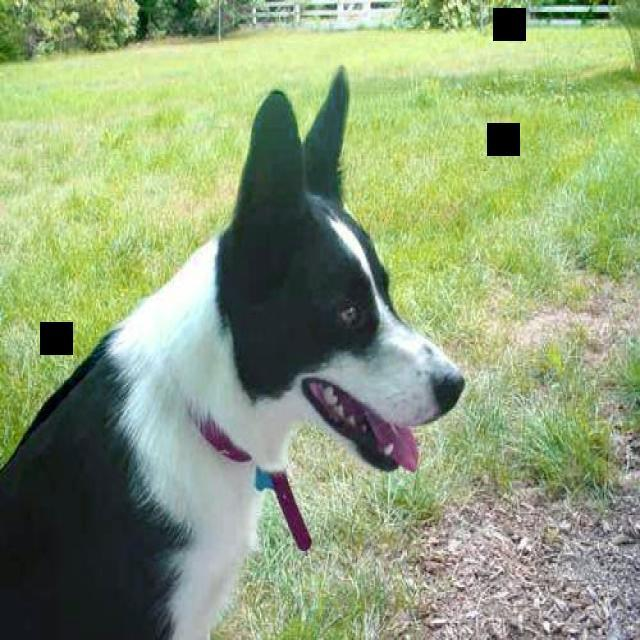adult_dog: (0, 64, 471, 640)
